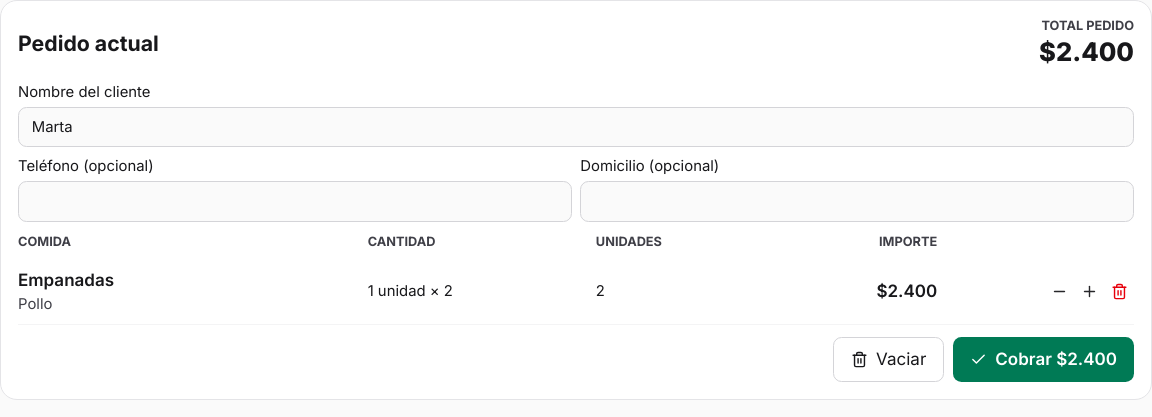
it: pedido actual (US-5 CA-5 y CA-6) › "Sumar uno" agrega una unidad y se apaga sin stock (US-36)
This screenshot has width=1152, height=417.
Click the button titled "Sumar uno".
click(1089, 291)  # box [1074, 276, 1104, 306]
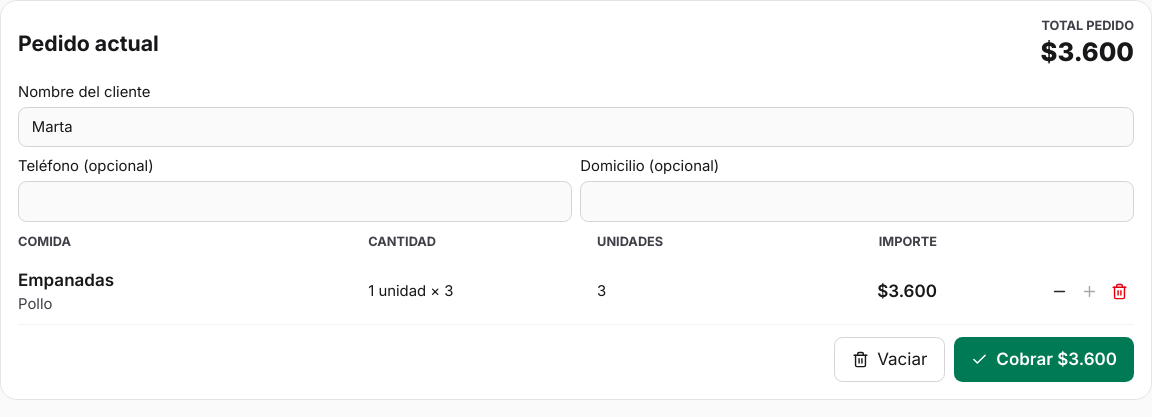
Now the text "1 unidad × 3" is shown, box [356, 260, 584, 324]
Now the button titled "Sumar uno" is disabled, box [1074, 276, 1104, 306]
